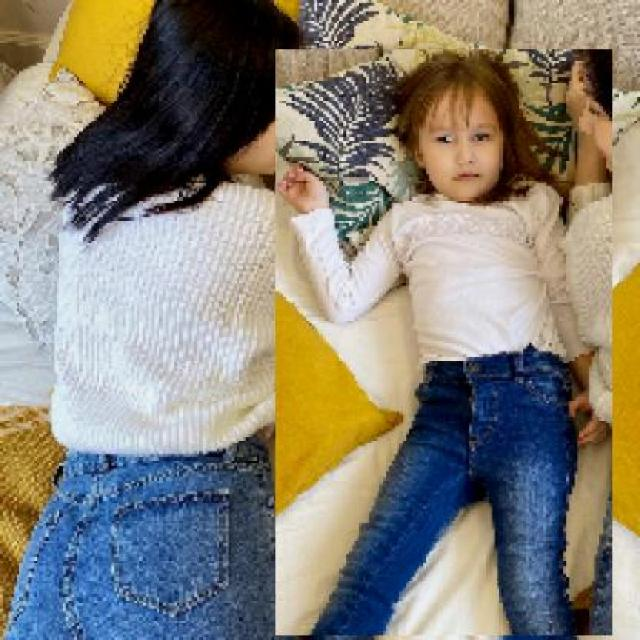child: (274, 49, 612, 637)
